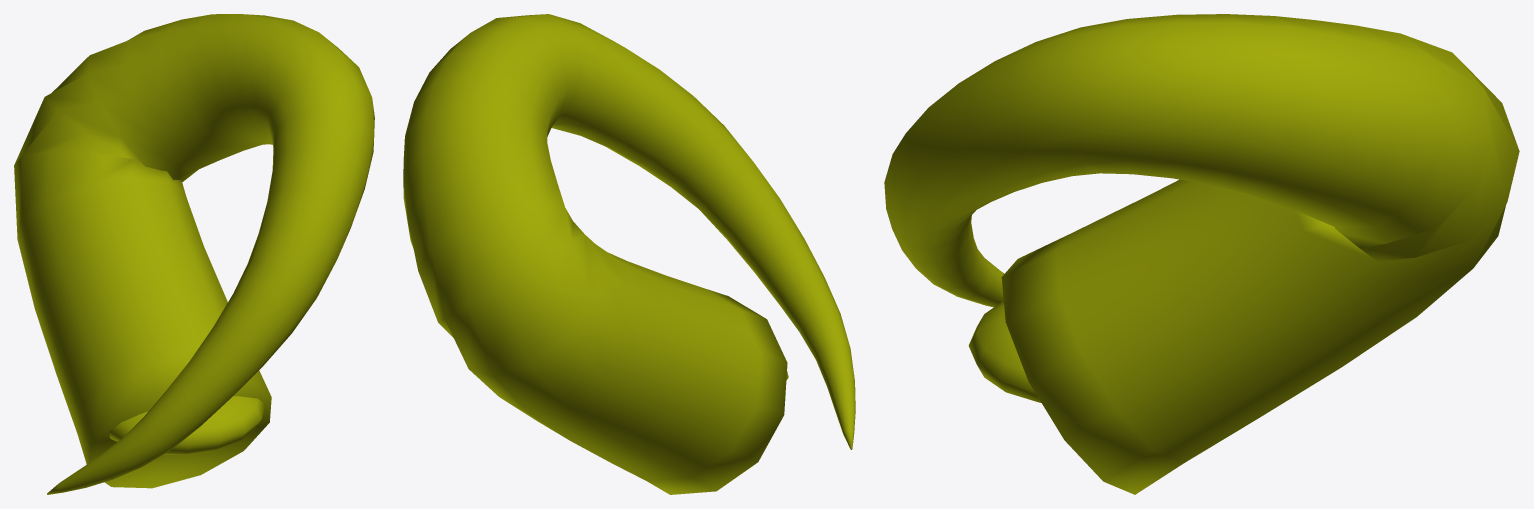
File: GXR_HORNS_03_RAM_L.glb
The picture shows the model from 3 angles, left to right: view 1: azimuth 30°, elevation 25°; view 2: azimuth 150°, elevation 25°; view 3: azimuth 270°, elevation 25°; orthographic projection. The views are drawn at different scales.
Visible parts, largest first — view 1: Mesh_Horn_L.002, Mesh_Keratin_Seat_L.002; view 2: Mesh_Horn_L.002; view 3: Mesh_Horn_L.002, Mesh_Keratin_Seat_L.002.
Boxes of the visible parts, x1=… form: Mesh_Horn_L.002: x1=14, y1=14, x2=374, y2=494; Mesh_Keratin_Seat_L.002: x1=109, y1=396, x2=264, y2=454; Mesh_Horn_L.002: x1=403, y1=14, x2=855, y2=494; Mesh_Horn_L.002: x1=884, y1=14, x2=1519, y2=494; Mesh_Keratin_Seat_L.002: x1=968, y1=301, x2=1041, y2=402.
Size of the model in its own units: 0.2329 by 0.2665 by 0.277.
